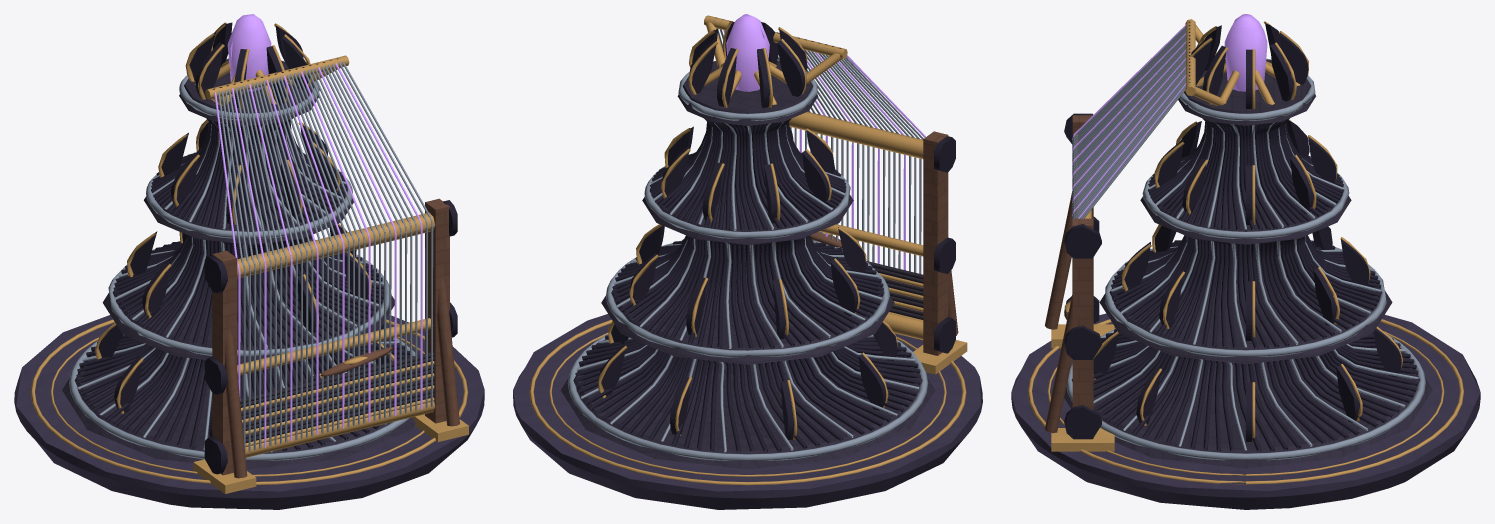
The model's file is umbral-blade-loom-far.glb.
3 views of the same model, side by side, from view 1: azimuth 30°, elevation 25°; view 2: azimuth 150°, elevation 25°; view 3: azimuth 270°, elevation 25° (orthographic).
Size of the model in its own units: 9.16 by 8.57 by 9.16.
Materials: 8 (8 with a texture image).
